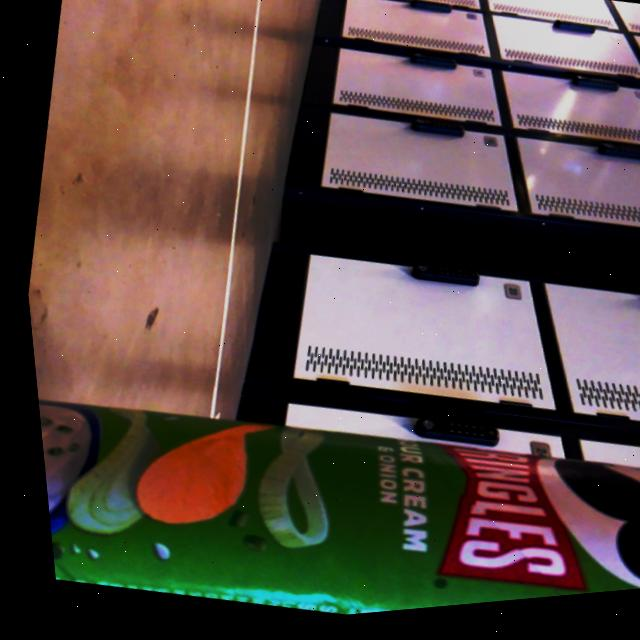greenpringles: (27, 319, 640, 640)
